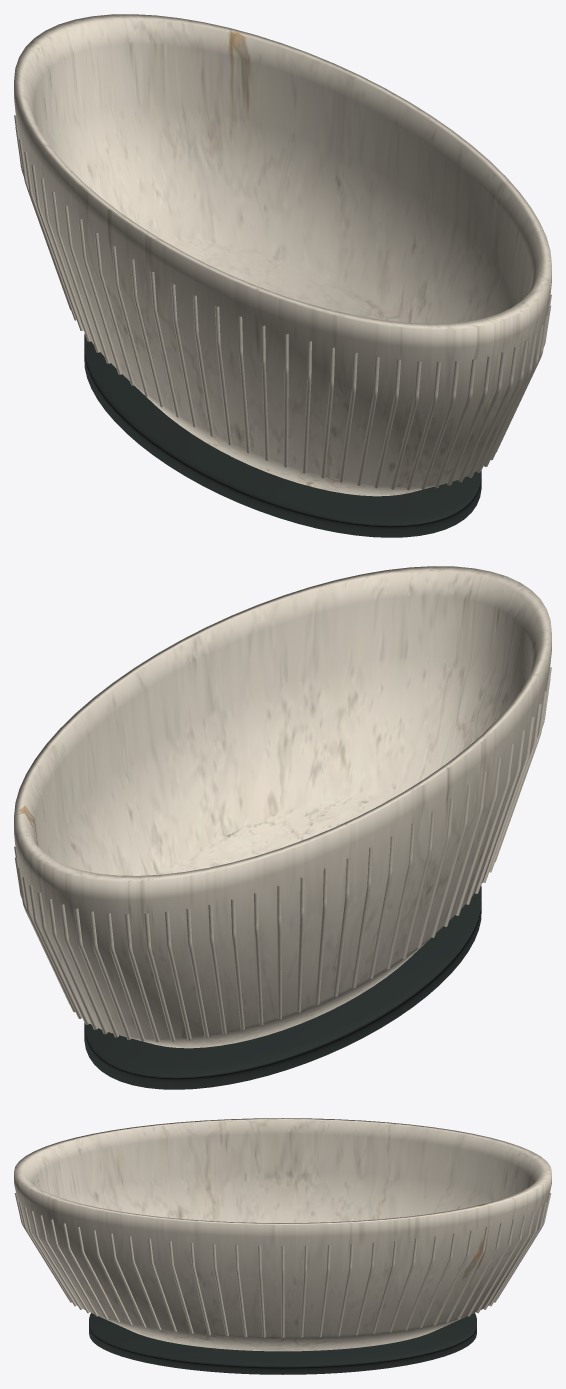
Rendered from bath-fluted-tub.glb.
3 views of the same model, one above another, from view 1: azimuth 30°, elevation 25°; view 2: azimuth 150°, elevation 25°; view 3: azimuth 270°, elevation 25° (orthographic). The views are drawn at different scales.
Parts seen in each view (by area): view 1: stone_surfaces, dark_surfaces; view 2: stone_surfaces, dark_surfaces; view 3: stone_surfaces, dark_surfaces.
Part boxes in pixels (bbox=[...]): stone_surfaces: bbox=[14, 14, 551, 496]; dark_surfaces: bbox=[84, 333, 481, 537]; stone_surfaces: bbox=[14, 566, 551, 1048]; dark_surfaces: bbox=[84, 885, 481, 1089]; stone_surfaces: bbox=[14, 1118, 551, 1351]; dark_surfaces: bbox=[89, 1313, 476, 1374].
Size of the model in its own units: 0.8126 by 0.572 by 1.72.
3 materials, 1 textured.
